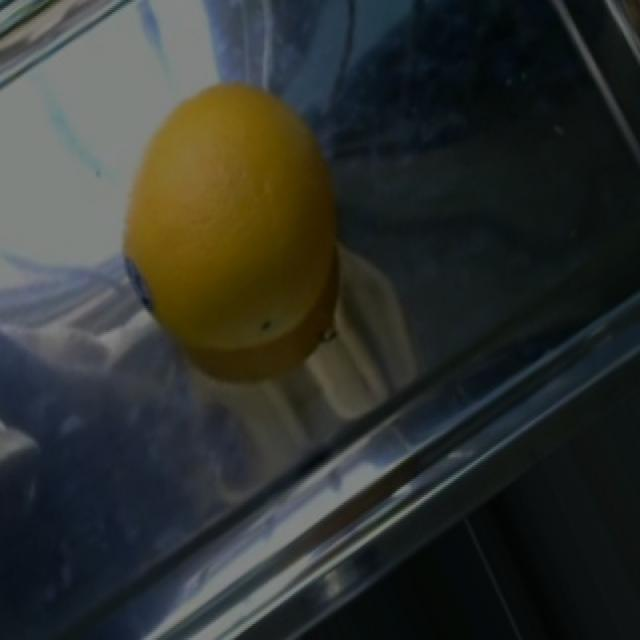Fruit: (108, 59, 348, 403)
